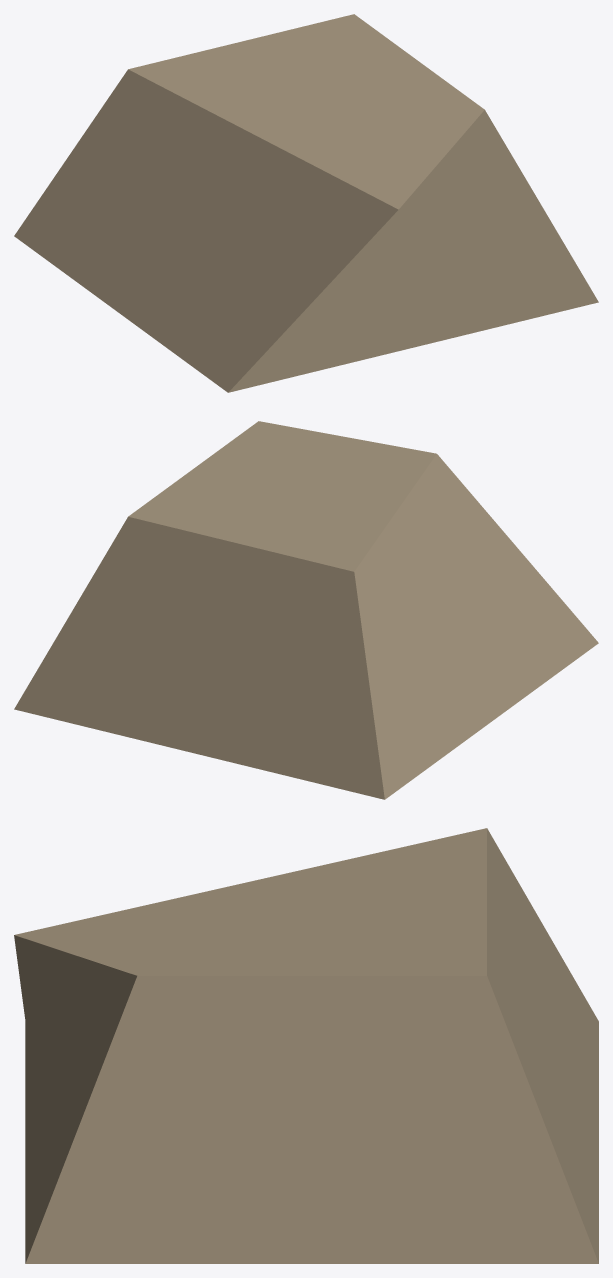
File: rock small 1.fbx
3 renders of one model, top to bottom at view 1: azimuth 30°, elevation 25°; view 2: azimuth 150°, elevation 25°; view 3: azimuth 270°, elevation 25°, orthographic. The views are drawn at different scales.
Parts seen in each view (by area): view 1: small_rock; view 2: small_rock; view 3: small_rock.
Part boxes in pixels (<box>): small_rock: <box>14,14,598,392</box>; small_rock: <box>14,421,598,799</box>; small_rock: <box>14,828,598,1263</box>.
Bounding box in the file's own units: 6.35 × 2.94 × 6.47.
